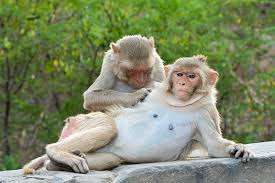monkey: (61, 47, 245, 168), (73, 23, 156, 101)
